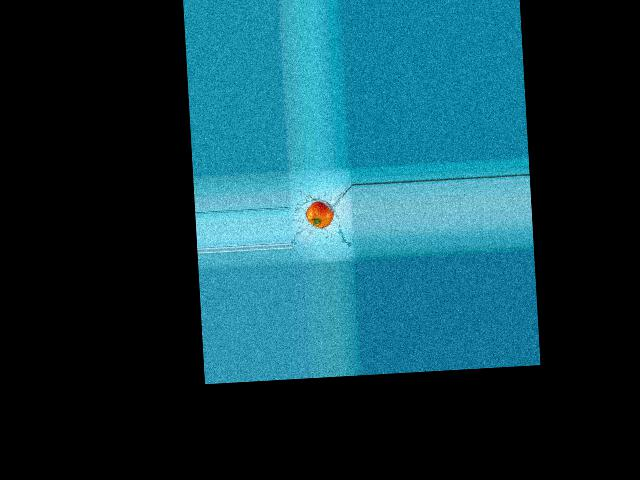tomato: (305, 200, 334, 228)
